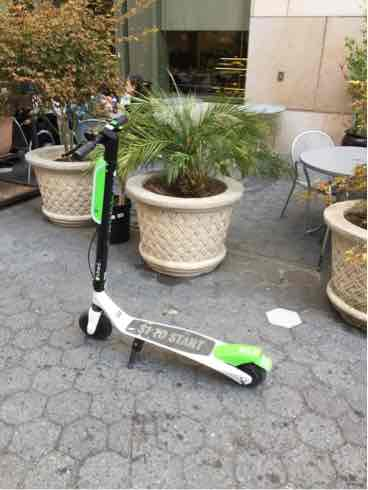scooter: (60, 95, 272, 396)
